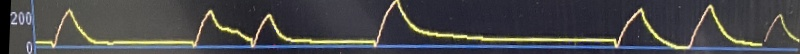normal_volume: (36, 0, 800, 54)
